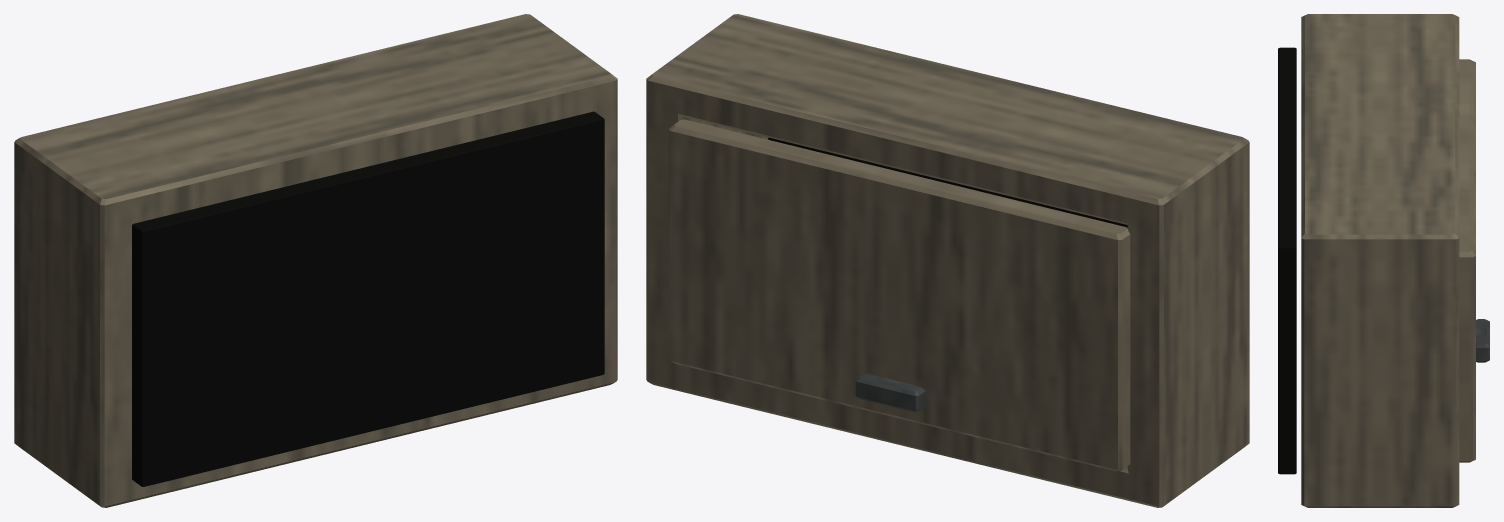
The model's file is LetterHatch.obj.
3 views of the same model, side by side, from view 1: azimuth 30°, elevation 25°; view 2: azimuth 150°, elevation 25°; view 3: azimuth 270°, elevation 25° (orthographic). The views are drawn at different scales.
Parts seen in each view (by area): view 1: Hatch_FrameAndRecess; view 2: Hatch_FrameAndRecess, Hatch_HingedPanel; view 3: Hatch_FrameAndRecess, Hatch_HingedPanel.
Part boxes in pixels (x1=…): Hatch_FrameAndRecess: x1=14, y1=14, x2=617, y2=507; Hatch_FrameAndRecess: x1=646, y1=14, x2=1249, y2=507; Hatch_HingedPanel: x1=668, y1=119, x2=1130, y2=471; Hatch_FrameAndRecess: x1=1278, y1=14, x2=1459, y2=507; Hatch_HingedPanel: x1=1459, y1=59, x2=1489, y2=462.
Bounding box in the file's own units: 0.57 × 0.325 × 0.228.
Materials: 3 (2 with a texture image).
